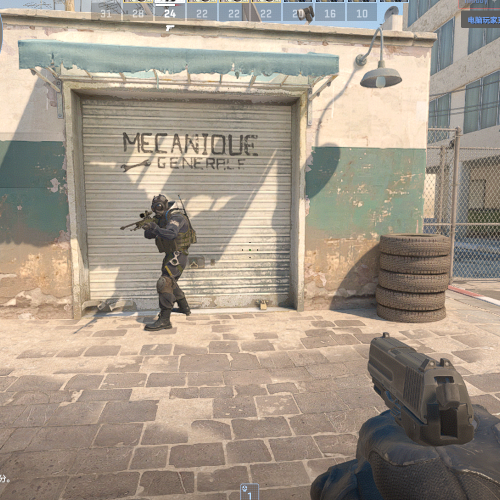ct_body: (142, 193, 193, 331)
ct_head: (151, 193, 169, 216)
